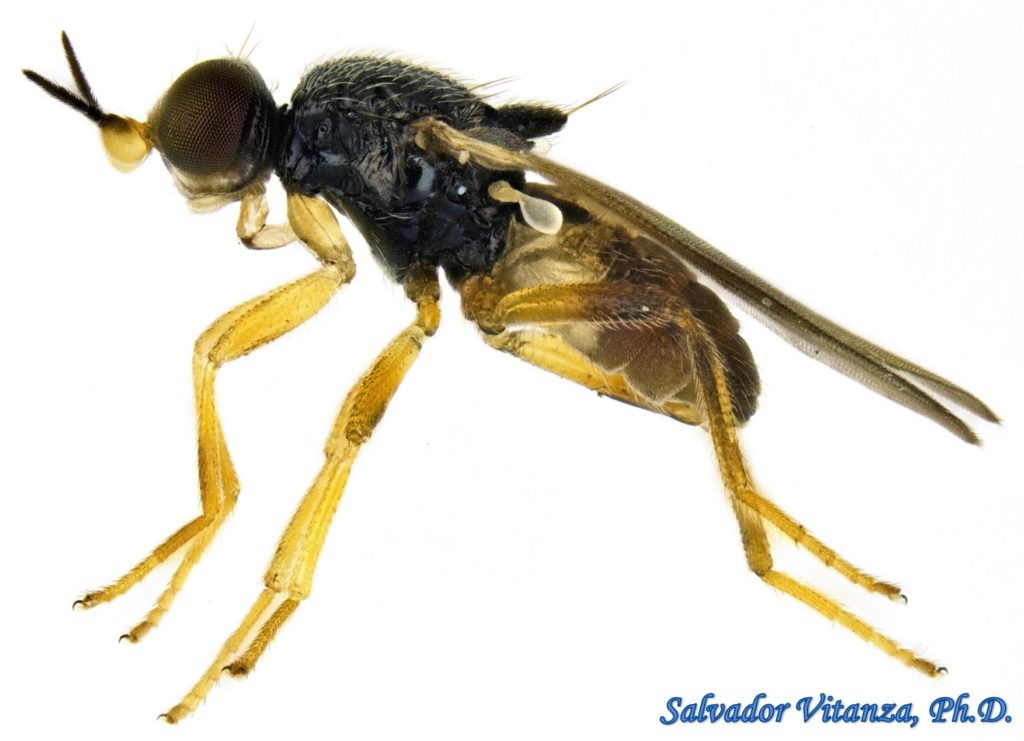Chloropidae: (16, 31, 1024, 727)
